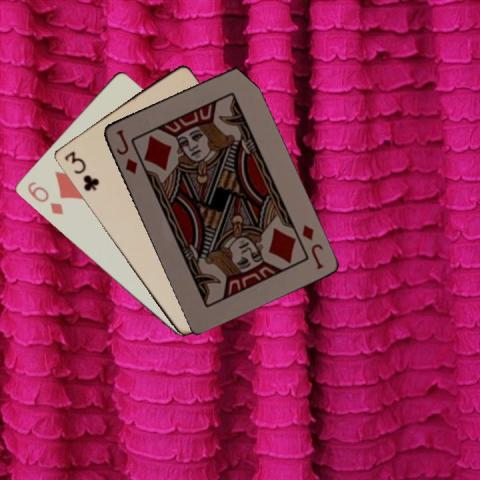3c: (61, 148, 101, 193)
6d: (24, 179, 65, 216)
Jd: (298, 221, 325, 270), (112, 126, 138, 175)
